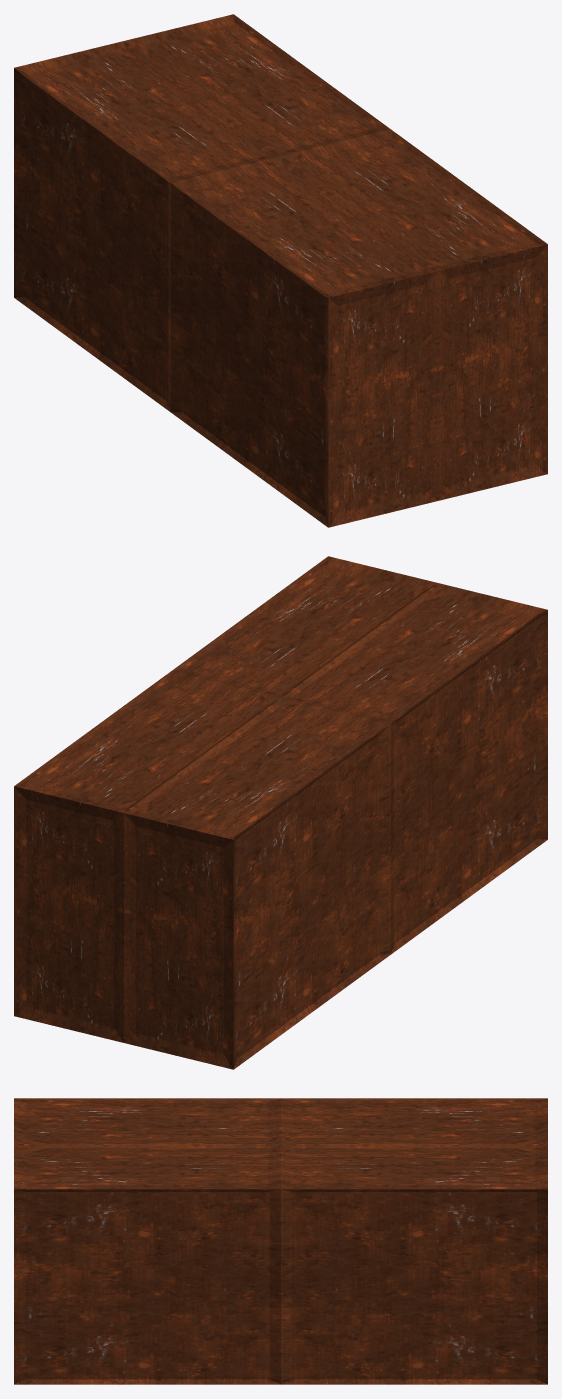
File: container.glb
3 views of the same model, one above another, from view 1: azimuth 30°, elevation 25°; view 2: azimuth 150°, elevation 25°; view 3: azimuth 270°, elevation 25° (orthographic). The views are drawn at different scales.
Parts seen in each view (by area): view 1: Cube; view 2: Cube; view 3: Cube.
Part boxes in pixels (<box>): Cube: <box>14,14,547,527</box>; Cube: <box>14,556,547,1069</box>; Cube: <box>14,1098,547,1384</box>.
Size of the model in its own units: 18.09 by 18.09 by 44.83.
Materials: 1 (1 with a texture image).
